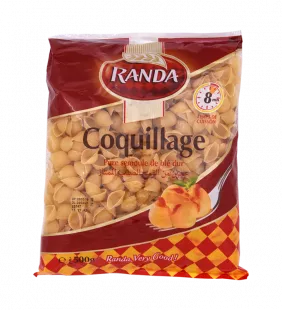RANDA: (28, 20, 260, 290)
